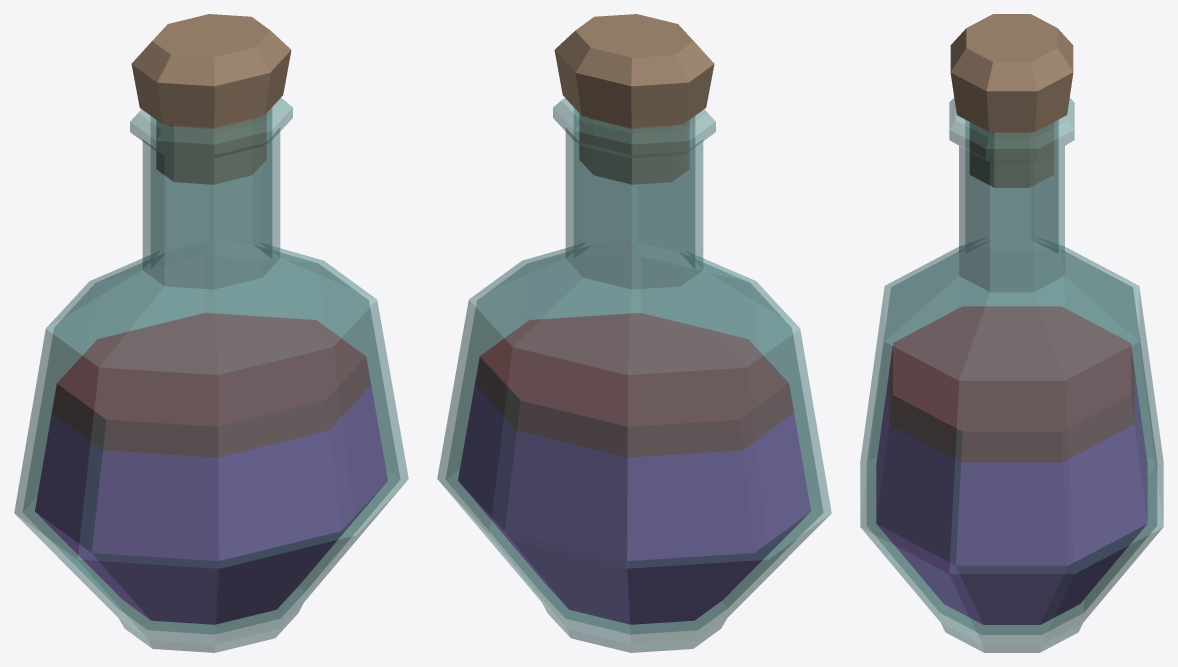
File: alchemy-flask-b1b4fb.glb
3 renders of one model, left to right at view 1: azimuth 30°, elevation 25°; view 2: azimuth 150°, elevation 25°; view 3: azimuth 270°, elevation 25°, orthographic.
Parts seen in each view (by area): view 1: flask-crystal, flask-matte, stopper-matte; view 2: flask-crystal, flask-matte, stopper-matte; view 3: flask-crystal, flask-matte, stopper-matte.
Boxes of the visible parts, box(x1,y1,x2,y2) form: flask-crystal: box(14, 98, 408, 652); flask-matte: box(35, 313, 387, 624); stopper-matte: box(131, 14, 291, 184); flask-crystal: box(437, 98, 831, 652); flask-matte: box(458, 313, 810, 624); stopper-matte: box(554, 14, 714, 184); flask-crystal: box(860, 98, 1163, 652); flask-matte: box(876, 306, 1147, 624); stopper-matte: box(950, 14, 1073, 187).
Bounding box in the file's own units: 0.1321 × 0.223 × 0.1057.
